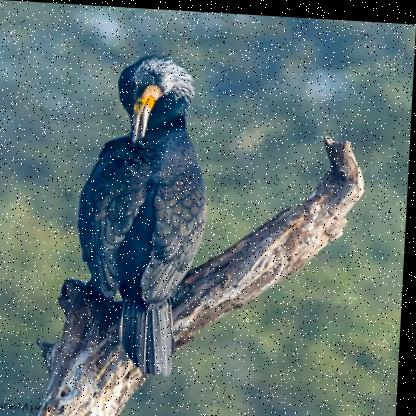Burung: (71, 48, 208, 378)
